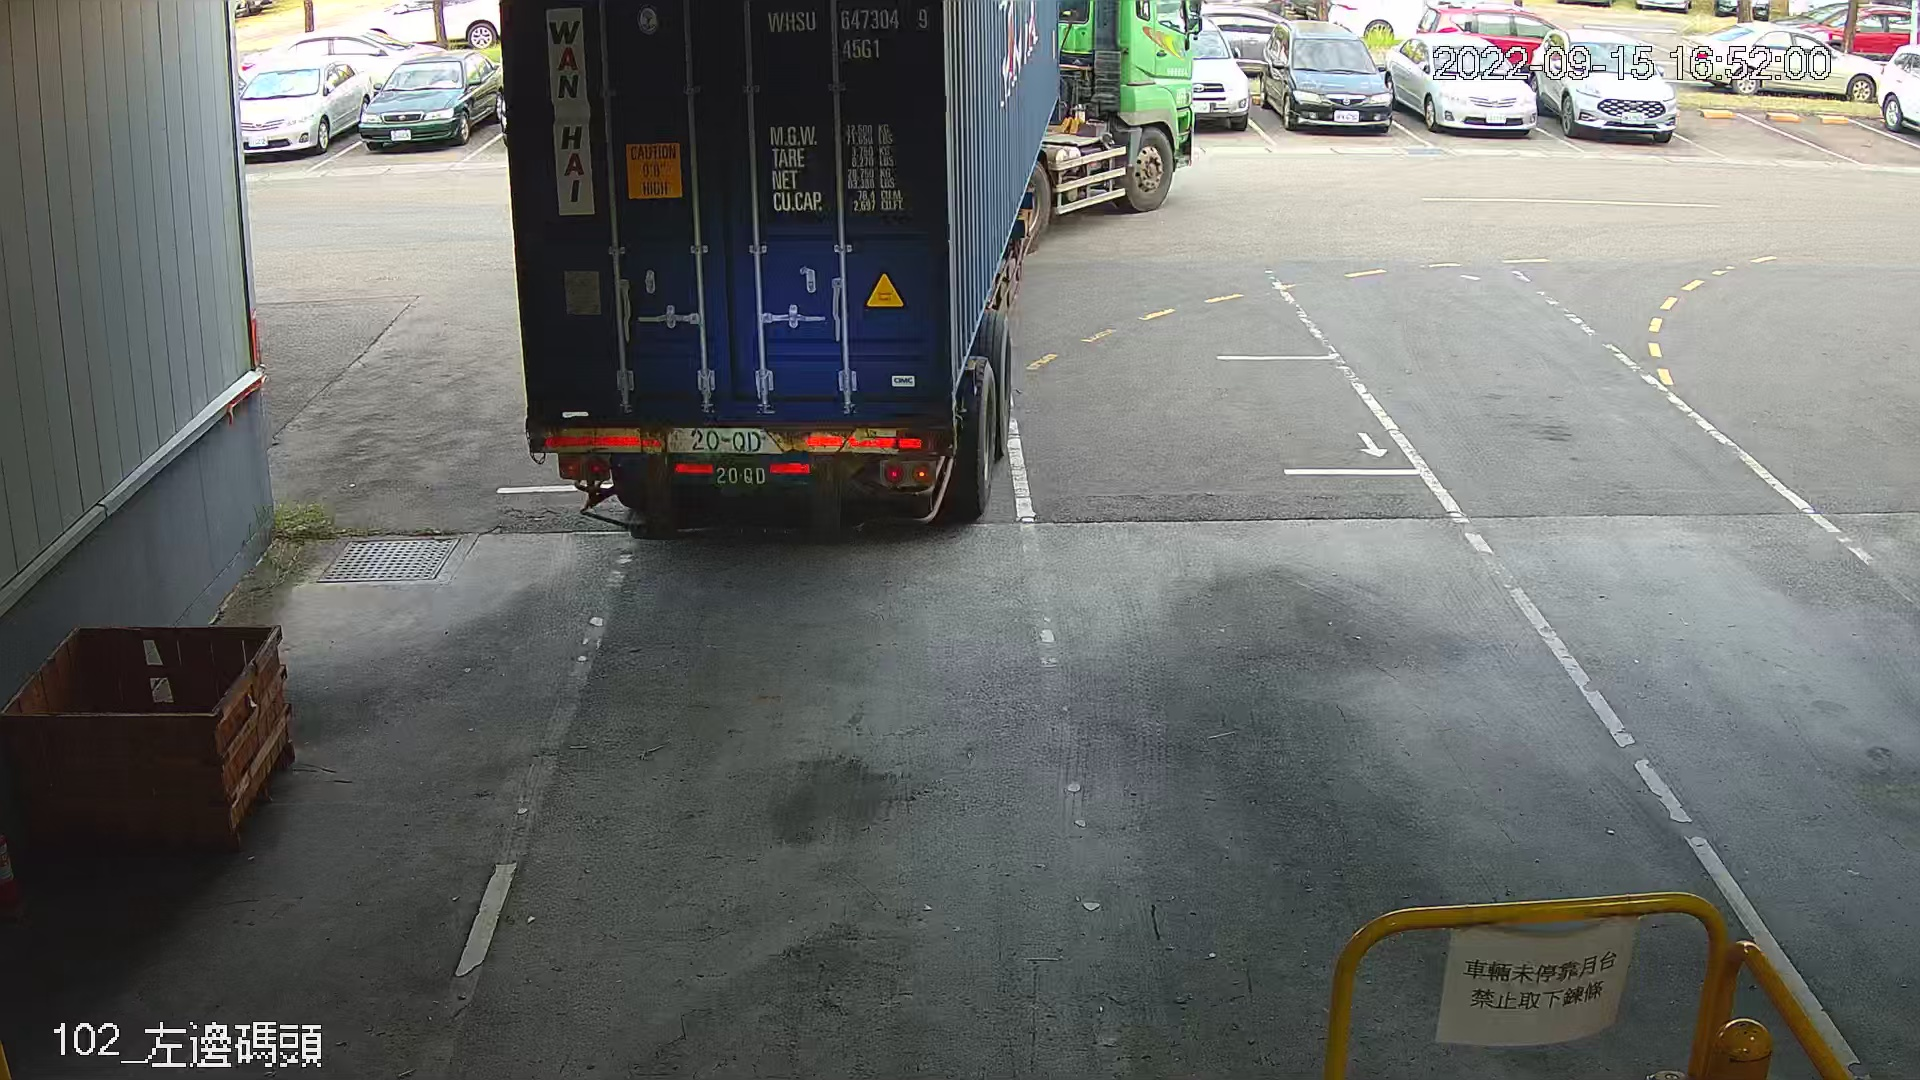container: (760, 3, 935, 66)
